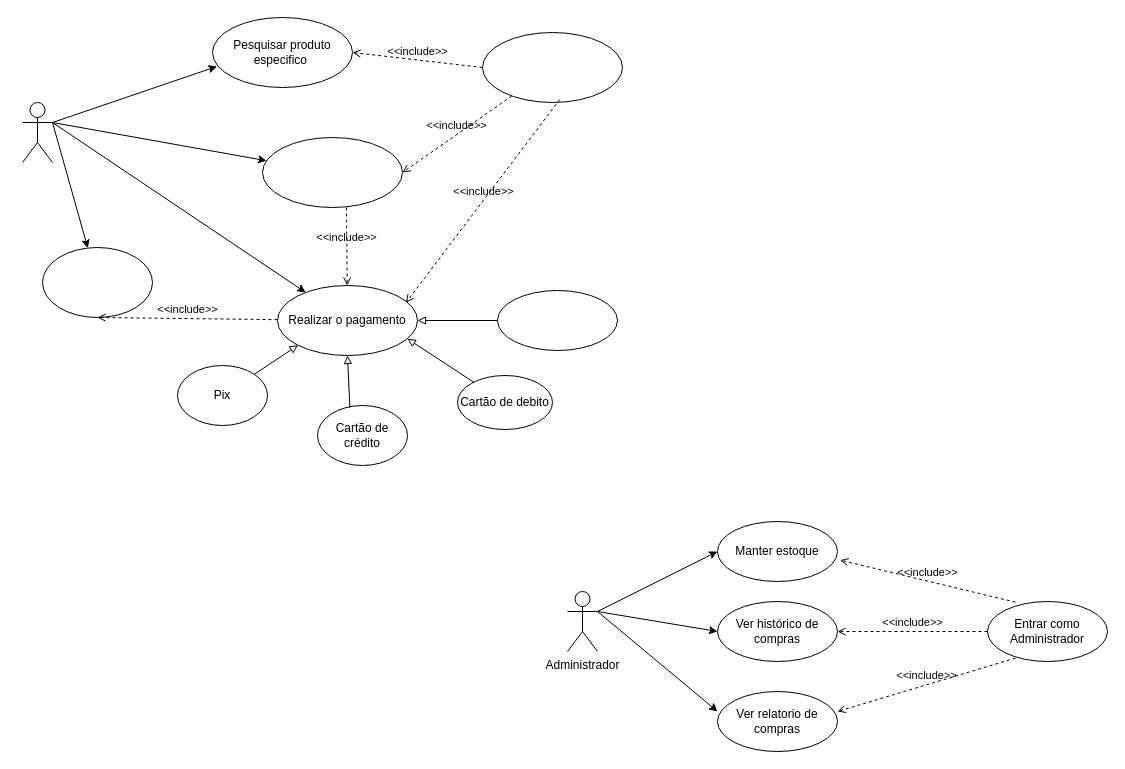
This 1125x769 diagram has some shape labels left out. The shapes that lost their labels are listed below. From the top down, each one's centre as x and y in pixels, then its label:
the point at 552,67: Acessar o site
the point at 37,132: Usuario
the point at 332,172: Manter no carrinho
the point at 97,282: Finalizar a compra
the point at 557,320: Dinheiro(na entrega)
